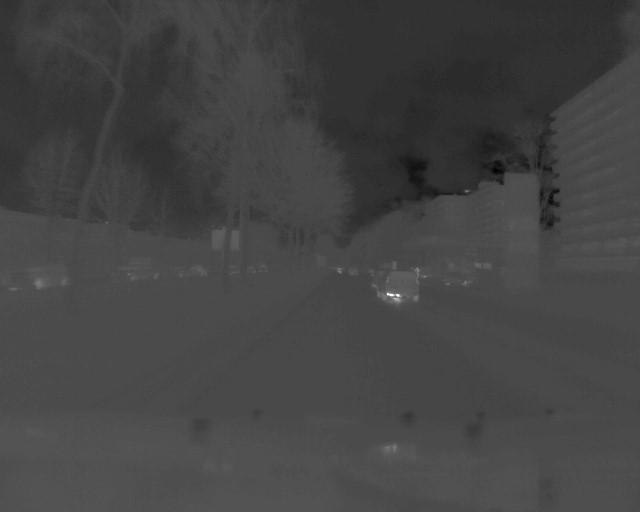car: (8, 261, 73, 291), (374, 269, 422, 307)
